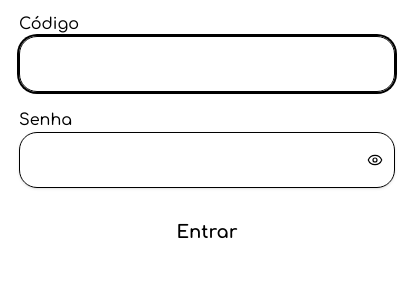
it: KioskColaboratorForm › shows a translated password length error
Type "1234" into the field labelled "Código". click: (207, 64)
box: [19, 36, 395, 92]
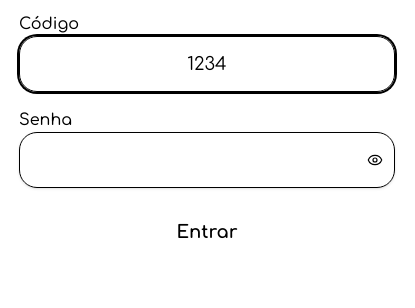
Type "12345" into the password field labelled "Senha". click: (207, 160)
box: [19, 132, 395, 188]
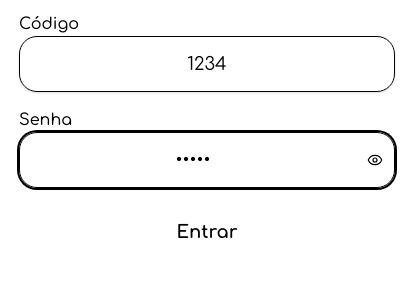
Click the button "Entrar". click: (207, 232)
box: [19, 204, 395, 260]
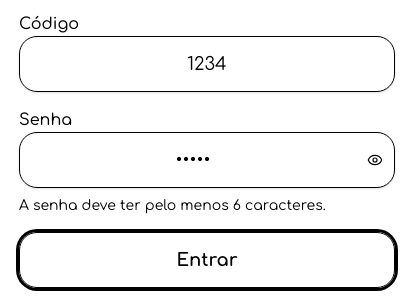
Expected: the text "A senha deve ter pelo menos 6 caracteres." is shown, [19, 198, 326, 213]
